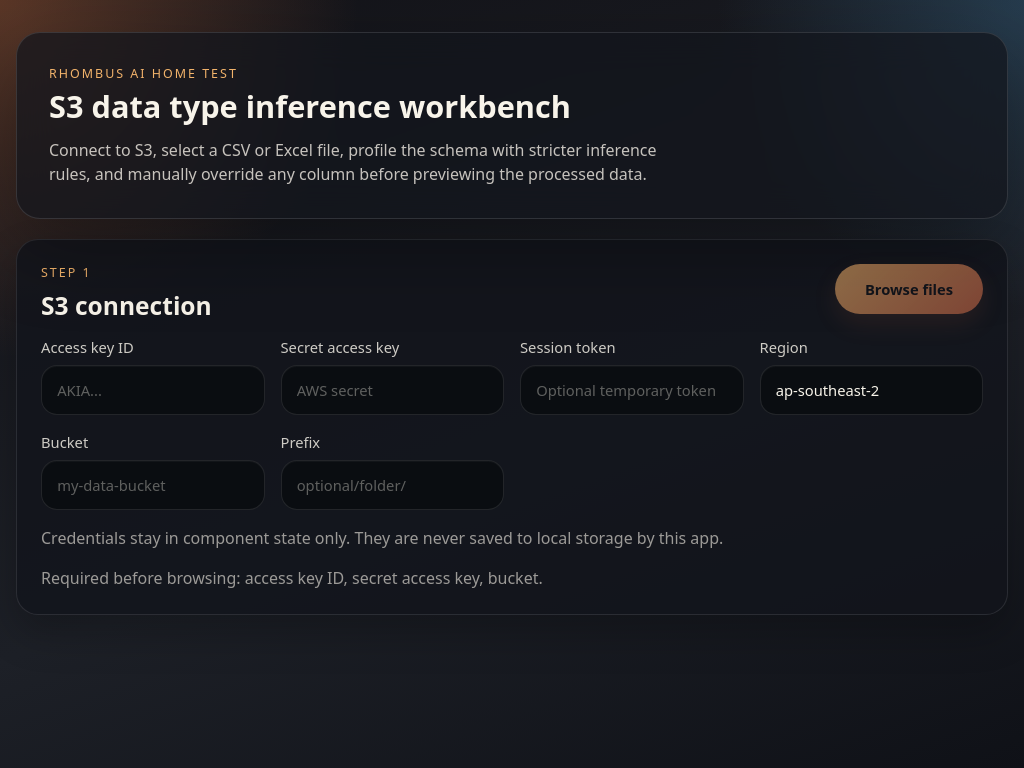
Test case: App › renders schema results and preview rows after falling back to synchronous processing
Type "AKIA123" into the field labelled "Access key ID" at (153, 390), box x1=41 y1=365 x2=264 y2=415
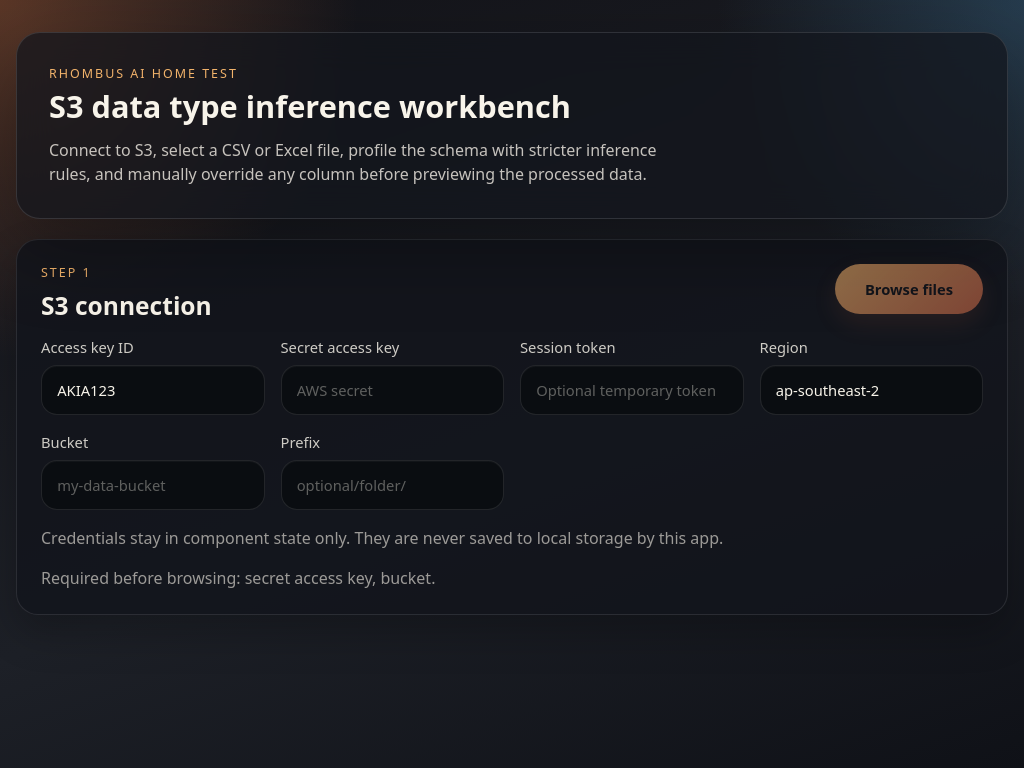
Type "secret" into the password field labelled "Secret access key" at (392, 390), box x1=280 y1=365 x2=504 y2=415
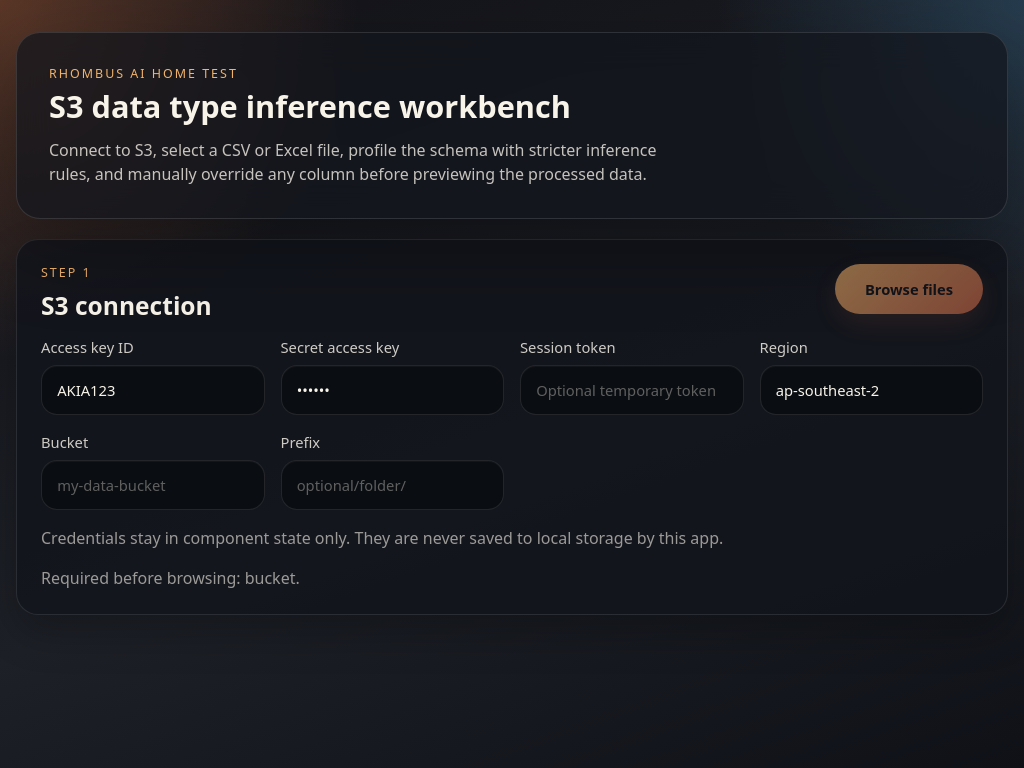
Type "demo-bucket" into the field labelled "Bucket" at (153, 485), box x1=41 y1=460 x2=264 y2=510
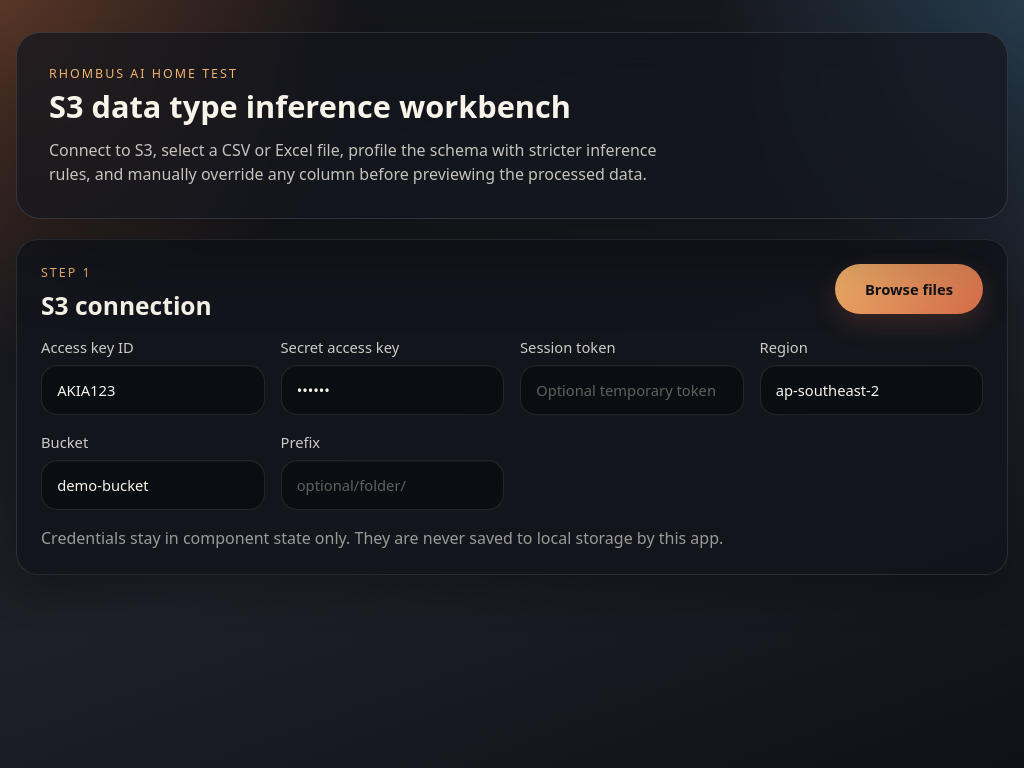
Click the button "Browse files" at (909, 289), box x1=835 y1=264 x2=983 y2=314
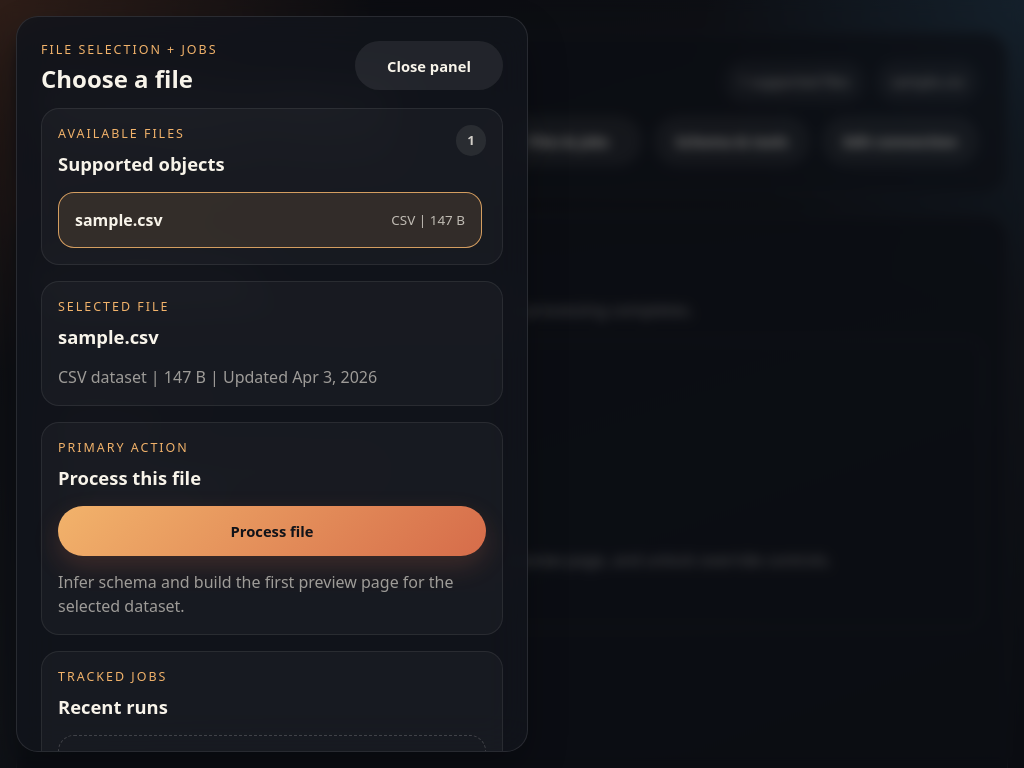
Result: the heading "Processing workbench" is shown at x1=45 y1=86 x2=401 y2=118
Result: the text "Ready to process" is shown at x1=58 y1=395 x2=205 y2=414
Click the button "Process file" at (272, 531), box x1=58 y1=506 x2=486 y2=556
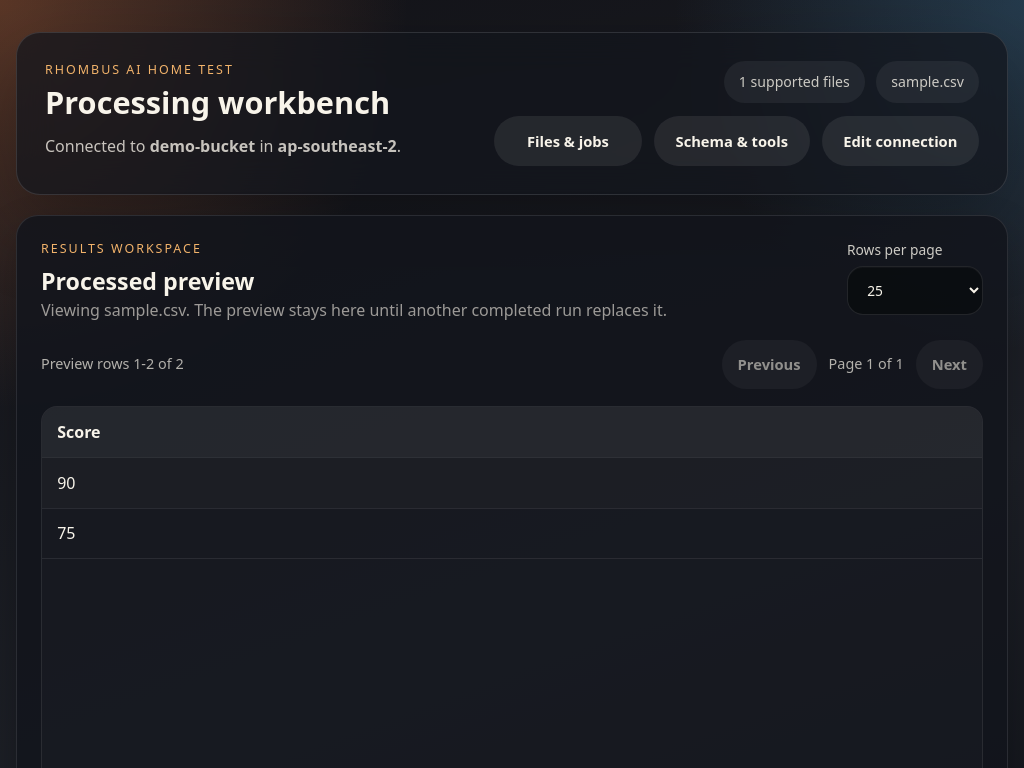
Result: the heading "Processed preview" is shown at x1=41 y1=265 x2=254 y2=297
Click the button "Schema & tools" at (732, 141), box x1=654 y1=116 x2=810 y2=166
(page scrolled)
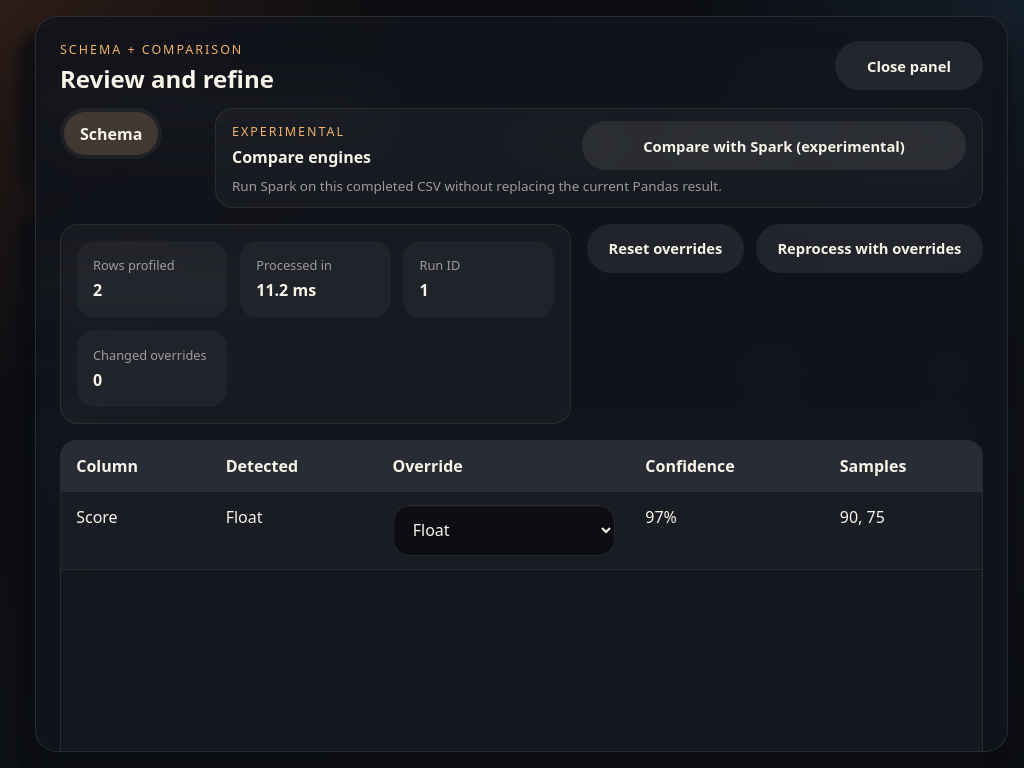
Result: the heading "Review and refine" is shown at x1=60 y1=62 x2=274 y2=95
Result: the cell "Score" is shown at x1=61 y1=491 x2=210 y2=569
Result: the dropdown named "Override type for Score" shows "Float" at x1=392 y1=504 x2=615 y2=556
